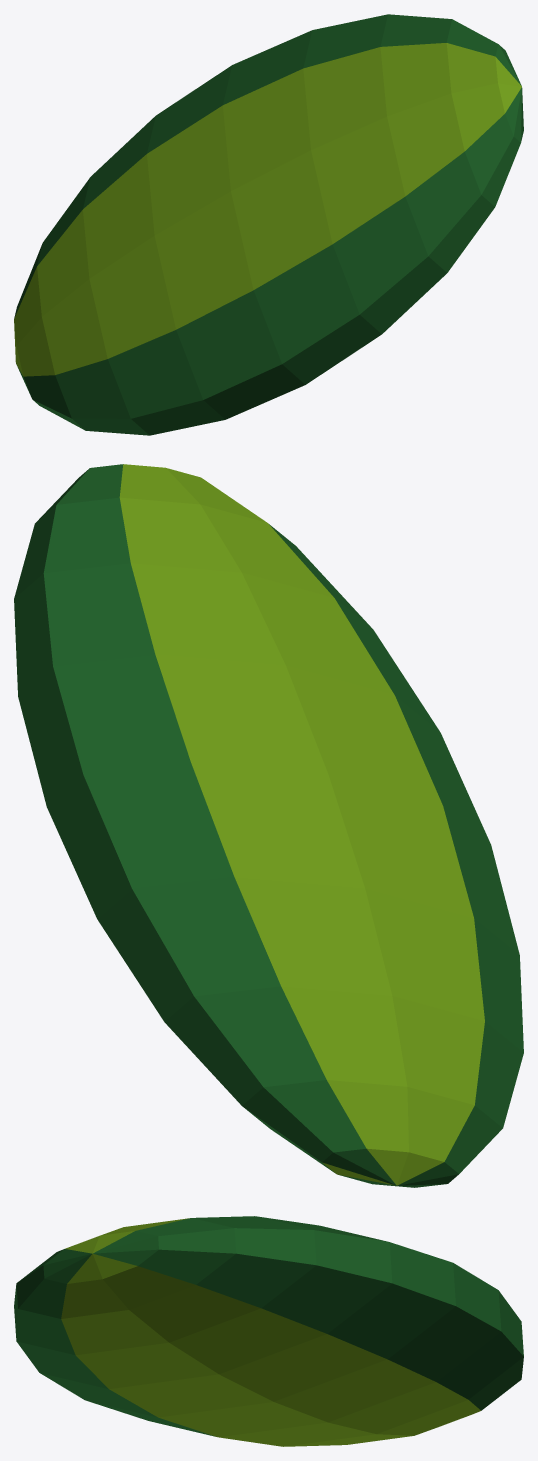
File: Nature_LeafPellet.fbx
3 renders of one model, top to bottom at view 1: azimuth 30°, elevation 25°; view 2: azimuth 150°, elevation 25°; view 3: azimuth 270°, elevation 25°, orthographic. The views are drawn at different scales.
Visible parts, largest first — view 1: pSphere13; view 2: pSphere13; view 3: pSphere13.
Part boxes in pixels (x1,y1,x2,y2): pSphere13: [14, 14, 523, 435]; pSphere13: [14, 464, 523, 1187]; pSphere13: [14, 1216, 523, 1446].
Size of the model in its own units: 46.98 by 42.57 by 51.13.
